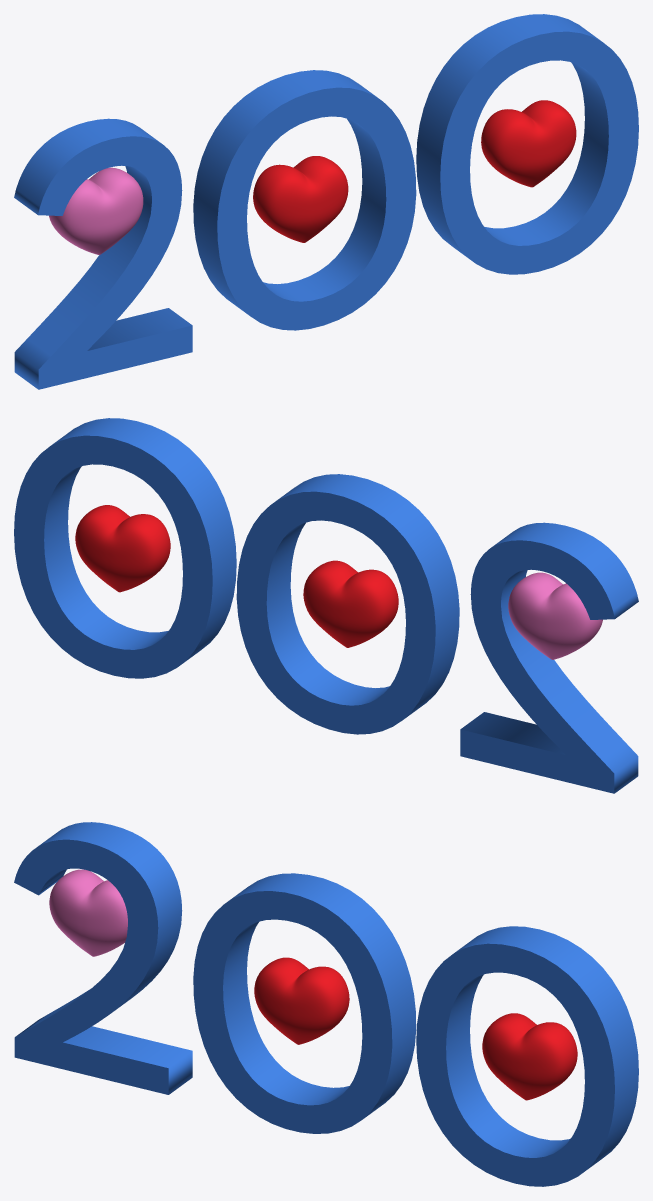
The picture shows the model from 3 angles, top to bottom: view 1: azimuth 30°, elevation 25°; view 2: azimuth 150°, elevation 25°; view 3: azimuth 330°, elevation 25°; orthographic projection.
Parts seen in each view (by area): view 1: Text.003, Text.005, Text.001, heart_0.002, heart_0.001, heart; view 2: Text.003, Text.005, Text.001, heart_0.001, heart_0.002, heart; view 3: Text.005, Text.003, Text.001, heart_0.001, heart_0.002, heart.
Boxes of the visible parts, x1,y1,x2,y2 form: Text.003: [416, 14, 638, 274]; Text.005: [193, 70, 416, 330]; Text.001: [14, 118, 192, 389]; heart_0.002: [481, 100, 576, 187]; heart_0.001: [253, 156, 348, 242]; heart: [49, 167, 143, 254]; Text.003: [14, 418, 236, 678]; Text.005: [236, 474, 459, 734]; Text.001: [460, 522, 638, 793]; heart_0.001: [303, 560, 398, 647]; heart_0.002: [75, 505, 170, 592]; heart: [508, 572, 602, 659]; Text.005: [193, 873, 416, 1133]; Text.003: [416, 926, 638, 1186]; Text.001: [14, 822, 192, 1094]; heart_0.001: [254, 957, 349, 1044]; heart_0.002: [482, 1013, 577, 1100]; heart: [49, 869, 127, 956].
Bounding box in the file's own units: 0.2035 × 0.0771 × 0.0171.
